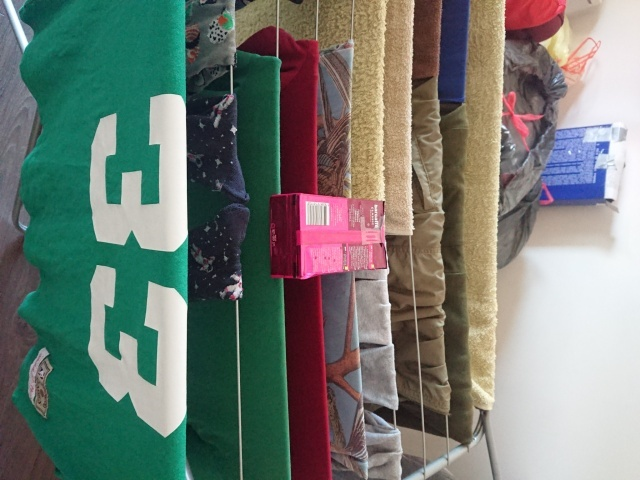Barcaffe Classic Original 225g: (266, 190, 391, 282)
